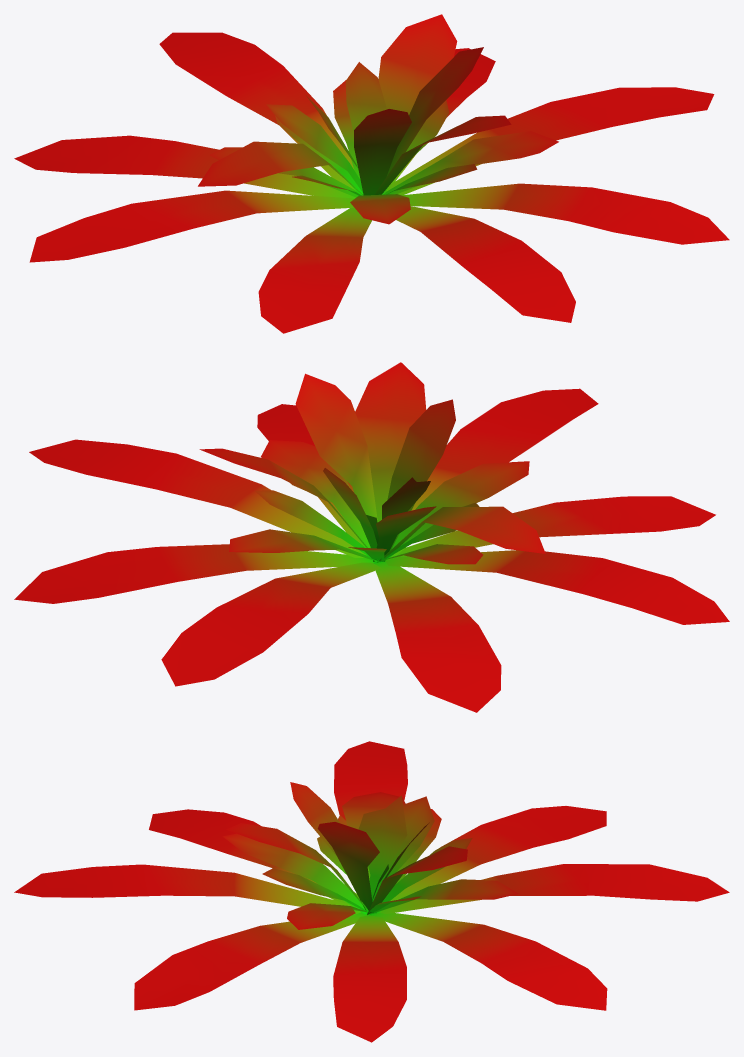
The model's file is Var14_LOD2.fbx.
3 views of the same model, one above another, from view 1: azimuth 30°, elevation 25°; view 2: azimuth 150°, elevation 25°; view 3: azimuth 270°, elevation 25° (orthographic). The views are drawn at different scales.
Visible parts, largest first — view 1: _omj3_Var14_LOD2; view 2: _omj3_Var14_LOD2; view 3: _omj3_Var14_LOD2.
Boxes of the visible parts, left/top/right/bottom form: _omj3_Var14_LOD2: left=14, top=14, right=729, bottom=333; _omj3_Var14_LOD2: left=14, top=362, right=729, bottom=712; _omj3_Var14_LOD2: left=14, top=741, right=729, bottom=1042.
Bounding box in the file's own units: 29.63 × 6.27 × 29.75.
